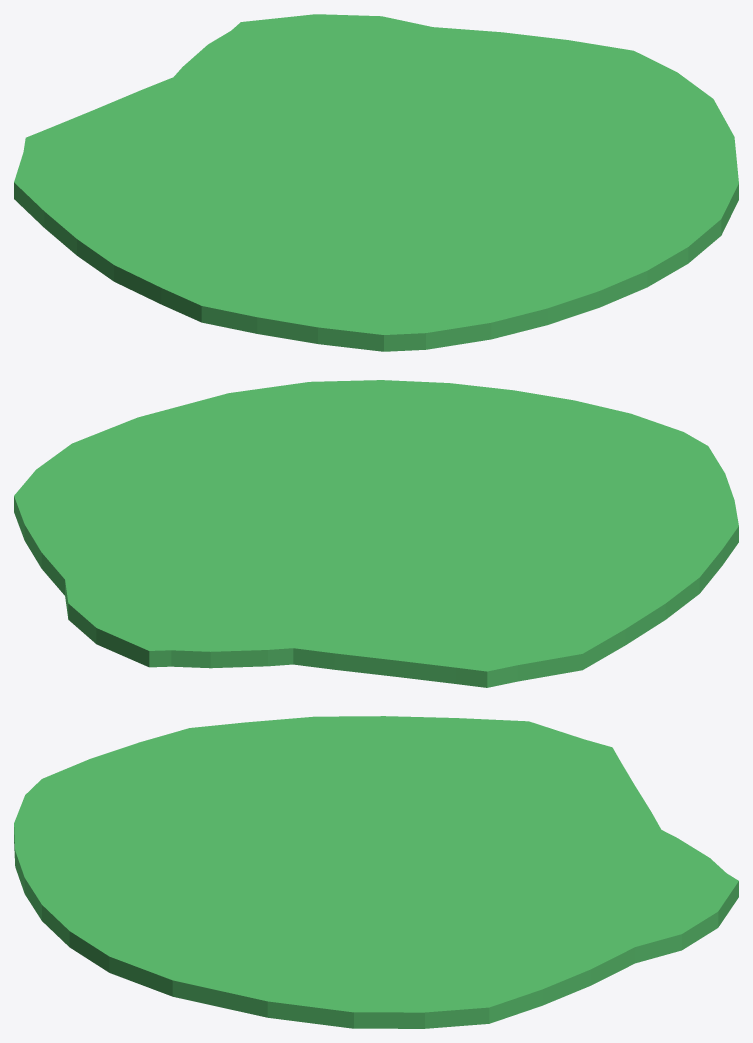
File: FlatPlatform01.fbx
3 views of the same model, one above another, from view 1: azimuth 30°, elevation 25°; view 2: azimuth 150°, elevation 25°; view 3: azimuth 270°, elevation 25° (orthographic). The views are drawn at different scales.
Parts seen in each view (by area): view 1: Plane.062; view 2: Plane.062; view 3: Plane.062.
Part boxes in pixels (x1=…): Plane.062: x1=14, y1=14, x2=738, y2=351; Plane.062: x1=14, y1=380, x2=738, y2=687; Plane.062: x1=14, y1=716, x2=738, y2=1028.
Bounding box in the file's own units: 5946 × 153 × 6147.
